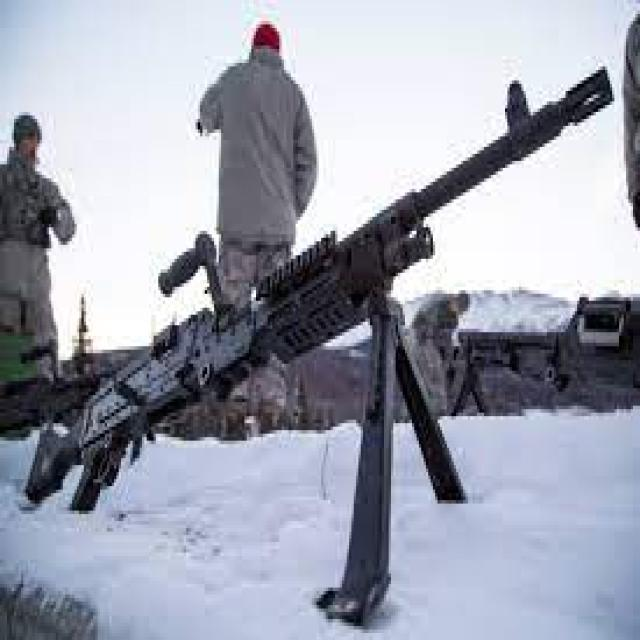Gun: (32, 77, 640, 493)
